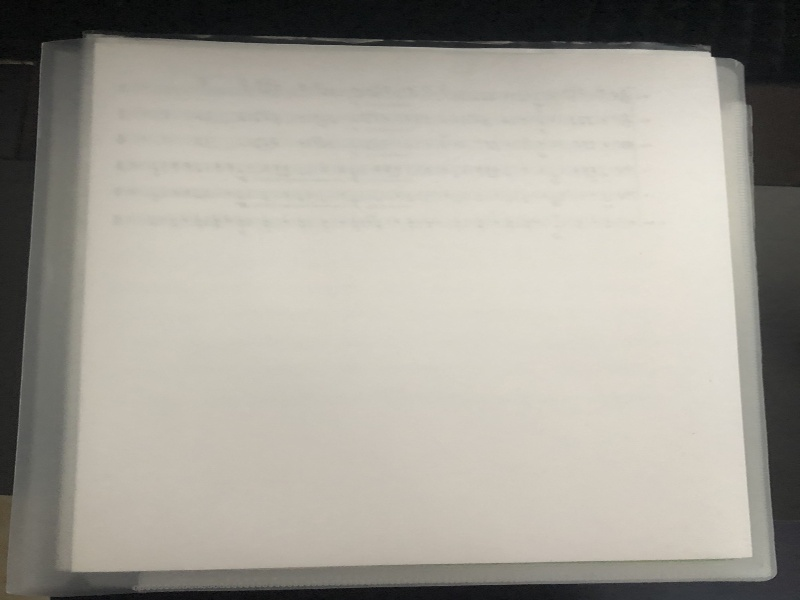document: (62, 39, 749, 572)
